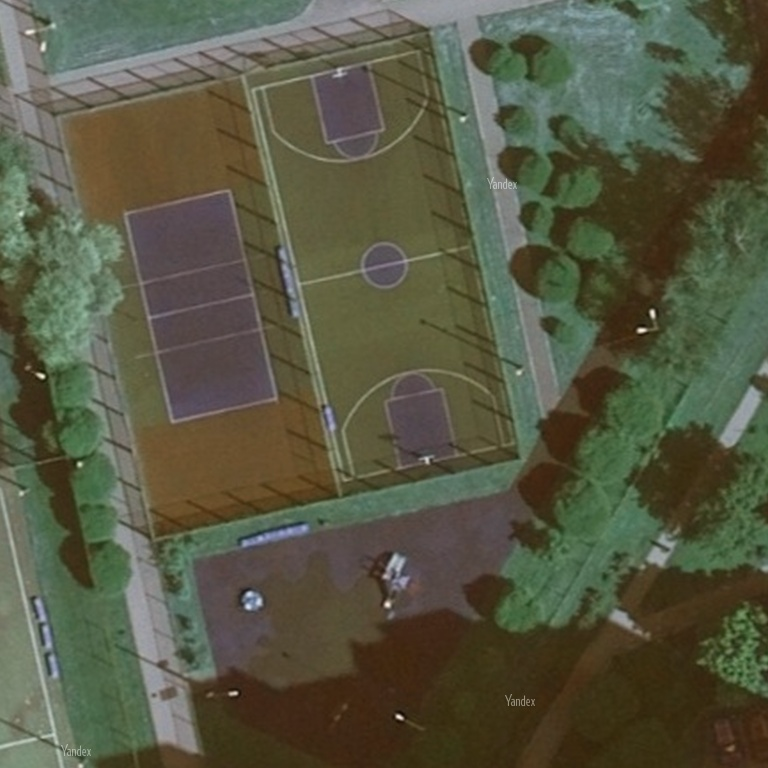basket_court: (233, 31, 521, 494)
